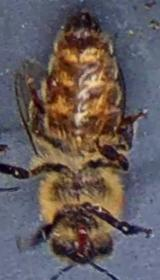varroa_mite: (40, 76, 61, 96)
